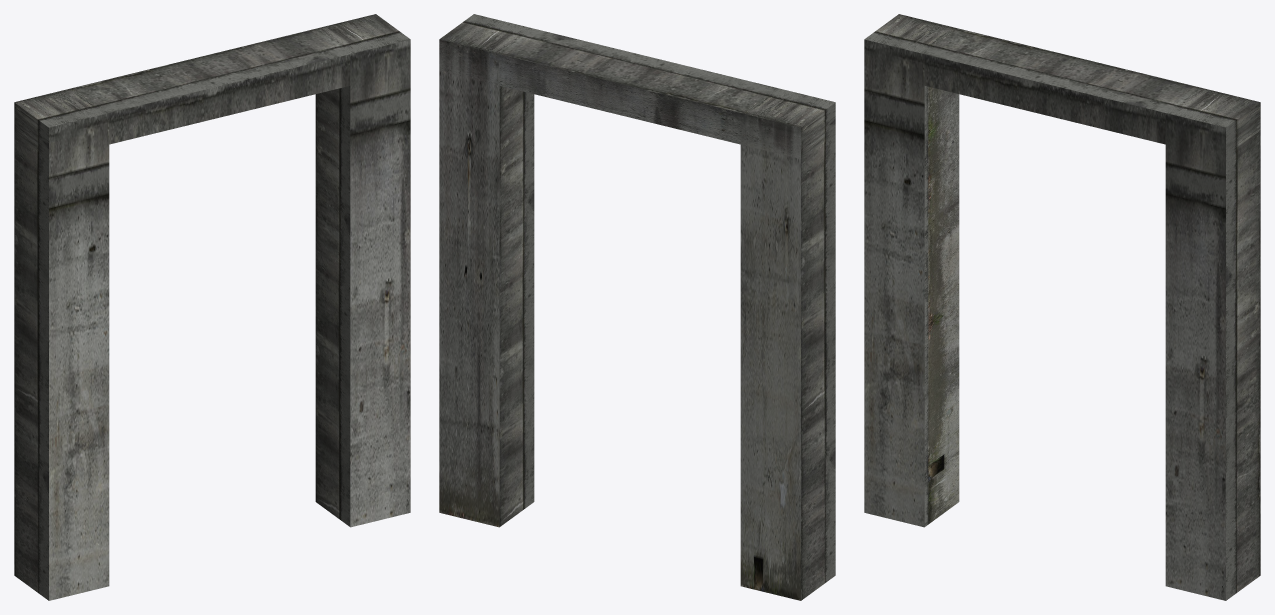
The model's file is DoorFrame.obj.
3 renders of one model, left to right at view 1: azimuth 30°, elevation 25°; view 2: azimuth 150°, elevation 25°; view 3: azimuth 330°, elevation 25°, orthographic.
Parts seen in each view (by area): view 1: DoorFrame; view 2: DoorFrame; view 3: DoorFrame.
Boxes of the visible parts, box(x1,y1,x2,y2) form: DoorFrame: box(14, 14, 410, 600); DoorFrame: box(439, 14, 835, 600); DoorFrame: box(864, 14, 1260, 600).
Bounding box in the file's own units: 2.4 × 3 × 0.4.
